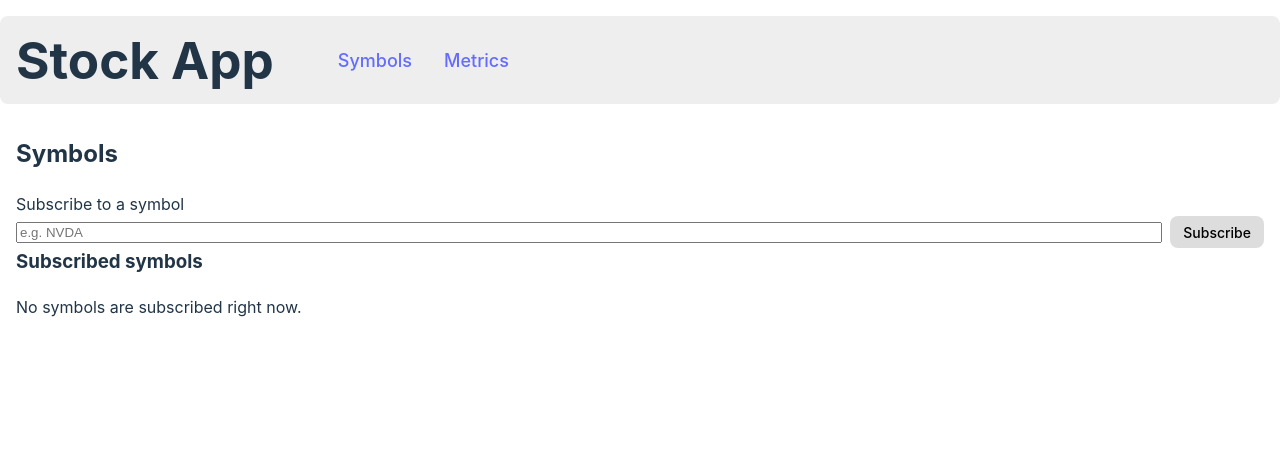
Test case: StockApp › surfaces a 409 conflict when subscribing a duplicate or over-limit symbol
Expected: the heading "Symbols" is shown, [16,139,118,168]
Type "AAPL" into the field labelled "Subscribe to a symbol" at (589, 232), box [16,222,1162,243]
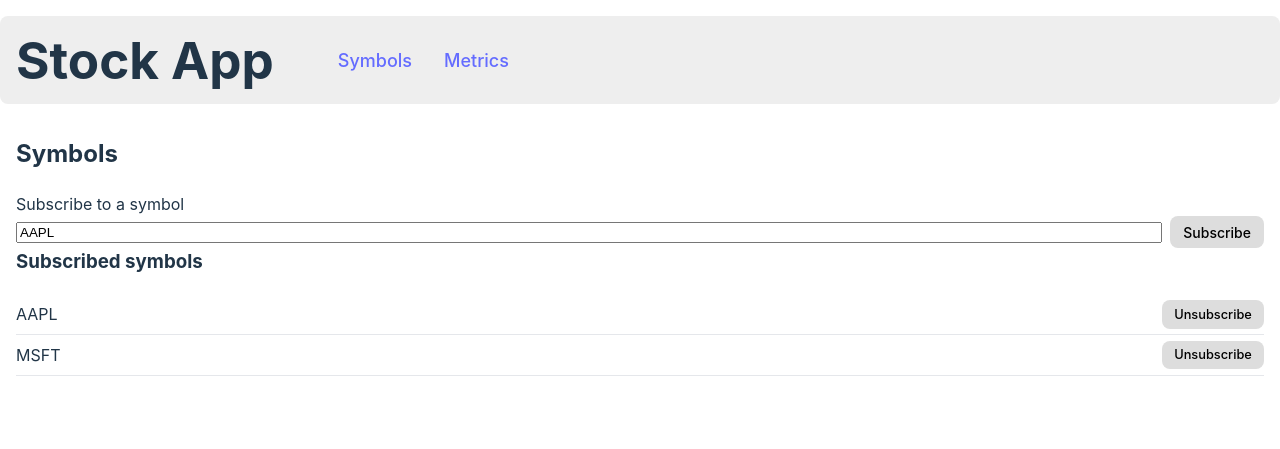
Click the button "Subscribe" at (1217, 232), box [1170,216,1264,248]
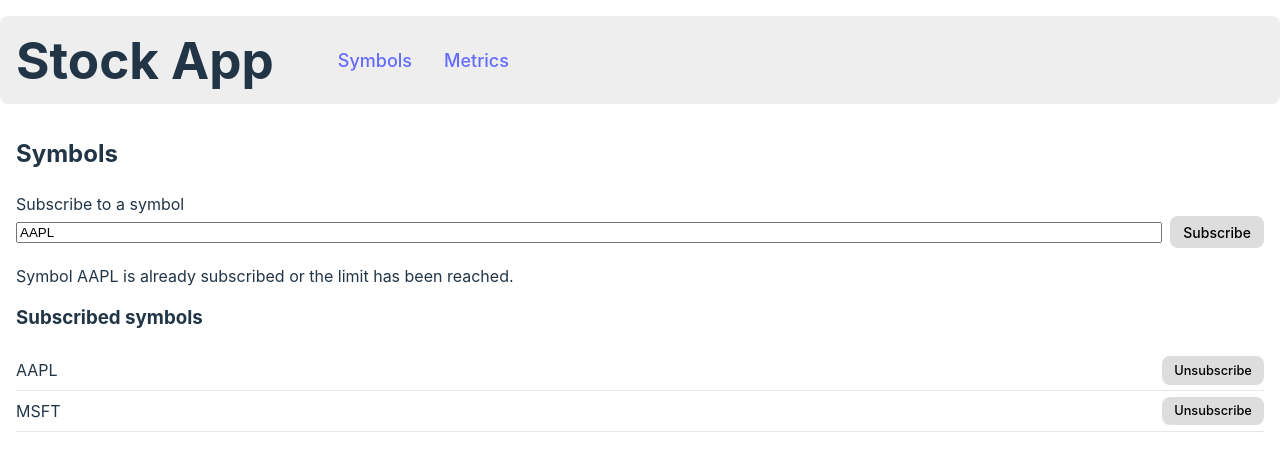
Expected: the message reads "Symbol AAPL is already subscribed or the limit has been reached.", [16,266,514,286]
